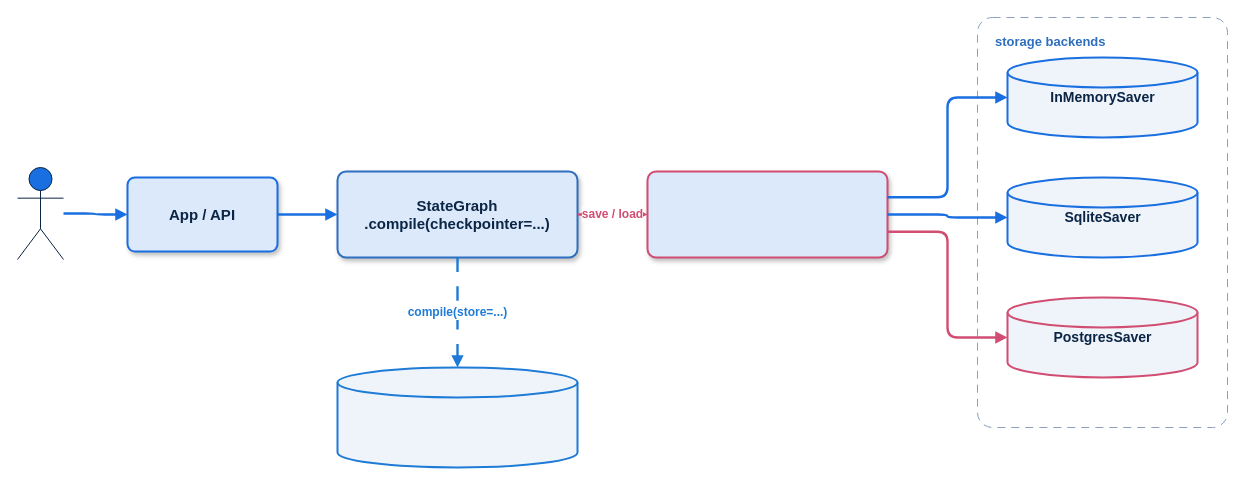
The diagram is 1245 pixels wide and 486 high, and some of its shapes have lost their labels. The centre of each missing label's shape, as x and y in pixels:
"Checkpointer BaseCheckpointSaver" belongs at (768,215).
"Store long-term · across threads" belongs at (457,417).
"User" belongs at (40,213).
